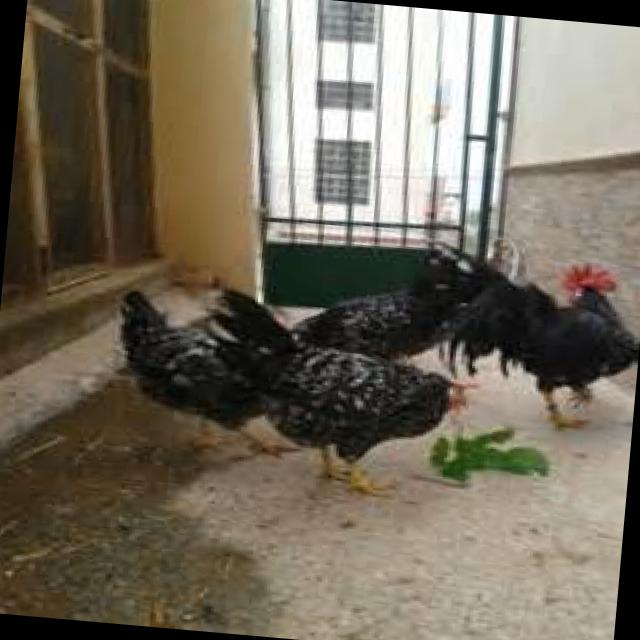animal: (182, 284, 482, 502), (410, 237, 640, 434), (102, 285, 312, 464)
